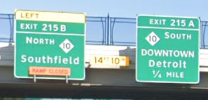0: (113, 56, 120, 66)
1: (109, 56, 114, 66), (92, 55, 97, 64)
4: (96, 55, 103, 65)
overheadsign: (89, 54, 130, 68)
